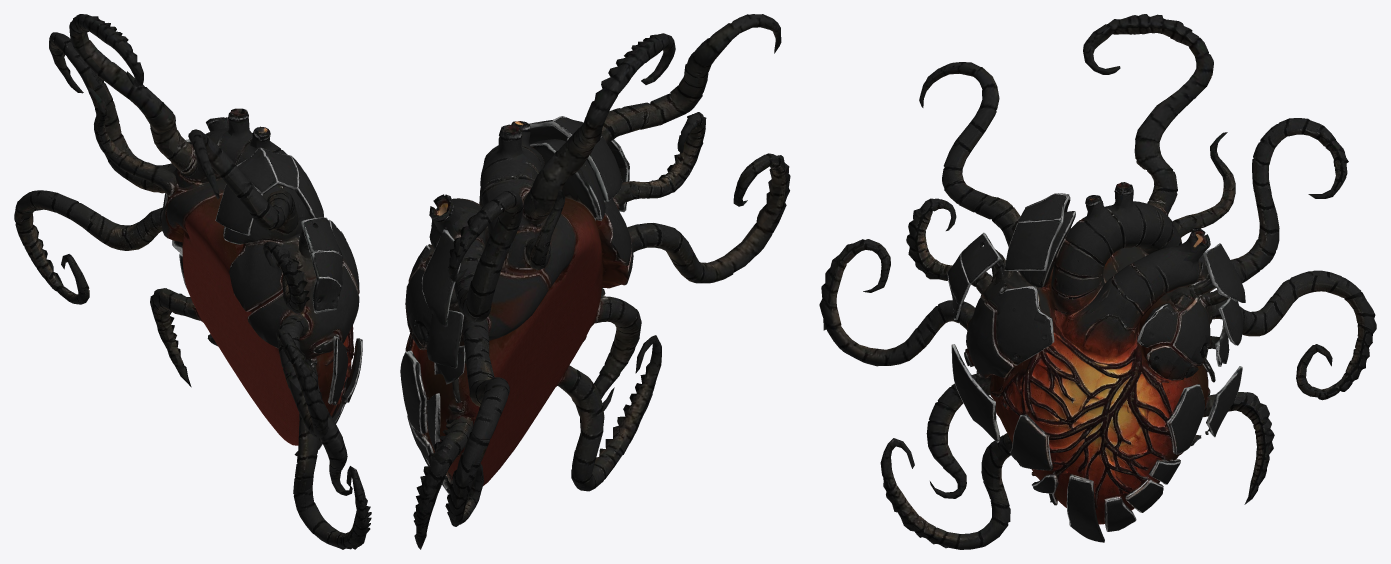
File: Boss1.glb
The picture shows the model from 3 angles, left to right: view 1: azimuth 30°, elevation 25°; view 2: azimuth 150°, elevation 25°; view 3: azimuth 270°, elevation 25°; orthographic projection. The views are drawn at different scales.
Visible parts, largest first — view 1: tripo_node_ffd94bf7-f205-40f4-9f9e-da2b680284fc; view 2: tripo_node_ffd94bf7-f205-40f4-9f9e-da2b680284fc; view 3: tripo_node_ffd94bf7-f205-40f4-9f9e-da2b680284fc.
Part boxes in pixels (<box>): tripo_node_ffd94bf7-f205-40f4-9f9e-da2b680284fc: <box>14,14,371,549</box>; tripo_node_ffd94bf7-f205-40f4-9f9e-da2b680284fc: <box>400,14,790,549</box>; tripo_node_ffd94bf7-f205-40f4-9f9e-da2b680284fc: <box>819,14,1376,549</box>.
Bounding box in the file's own units: 0.4372 × 0.91 × 0.9796.
1 material, 1 textured.
